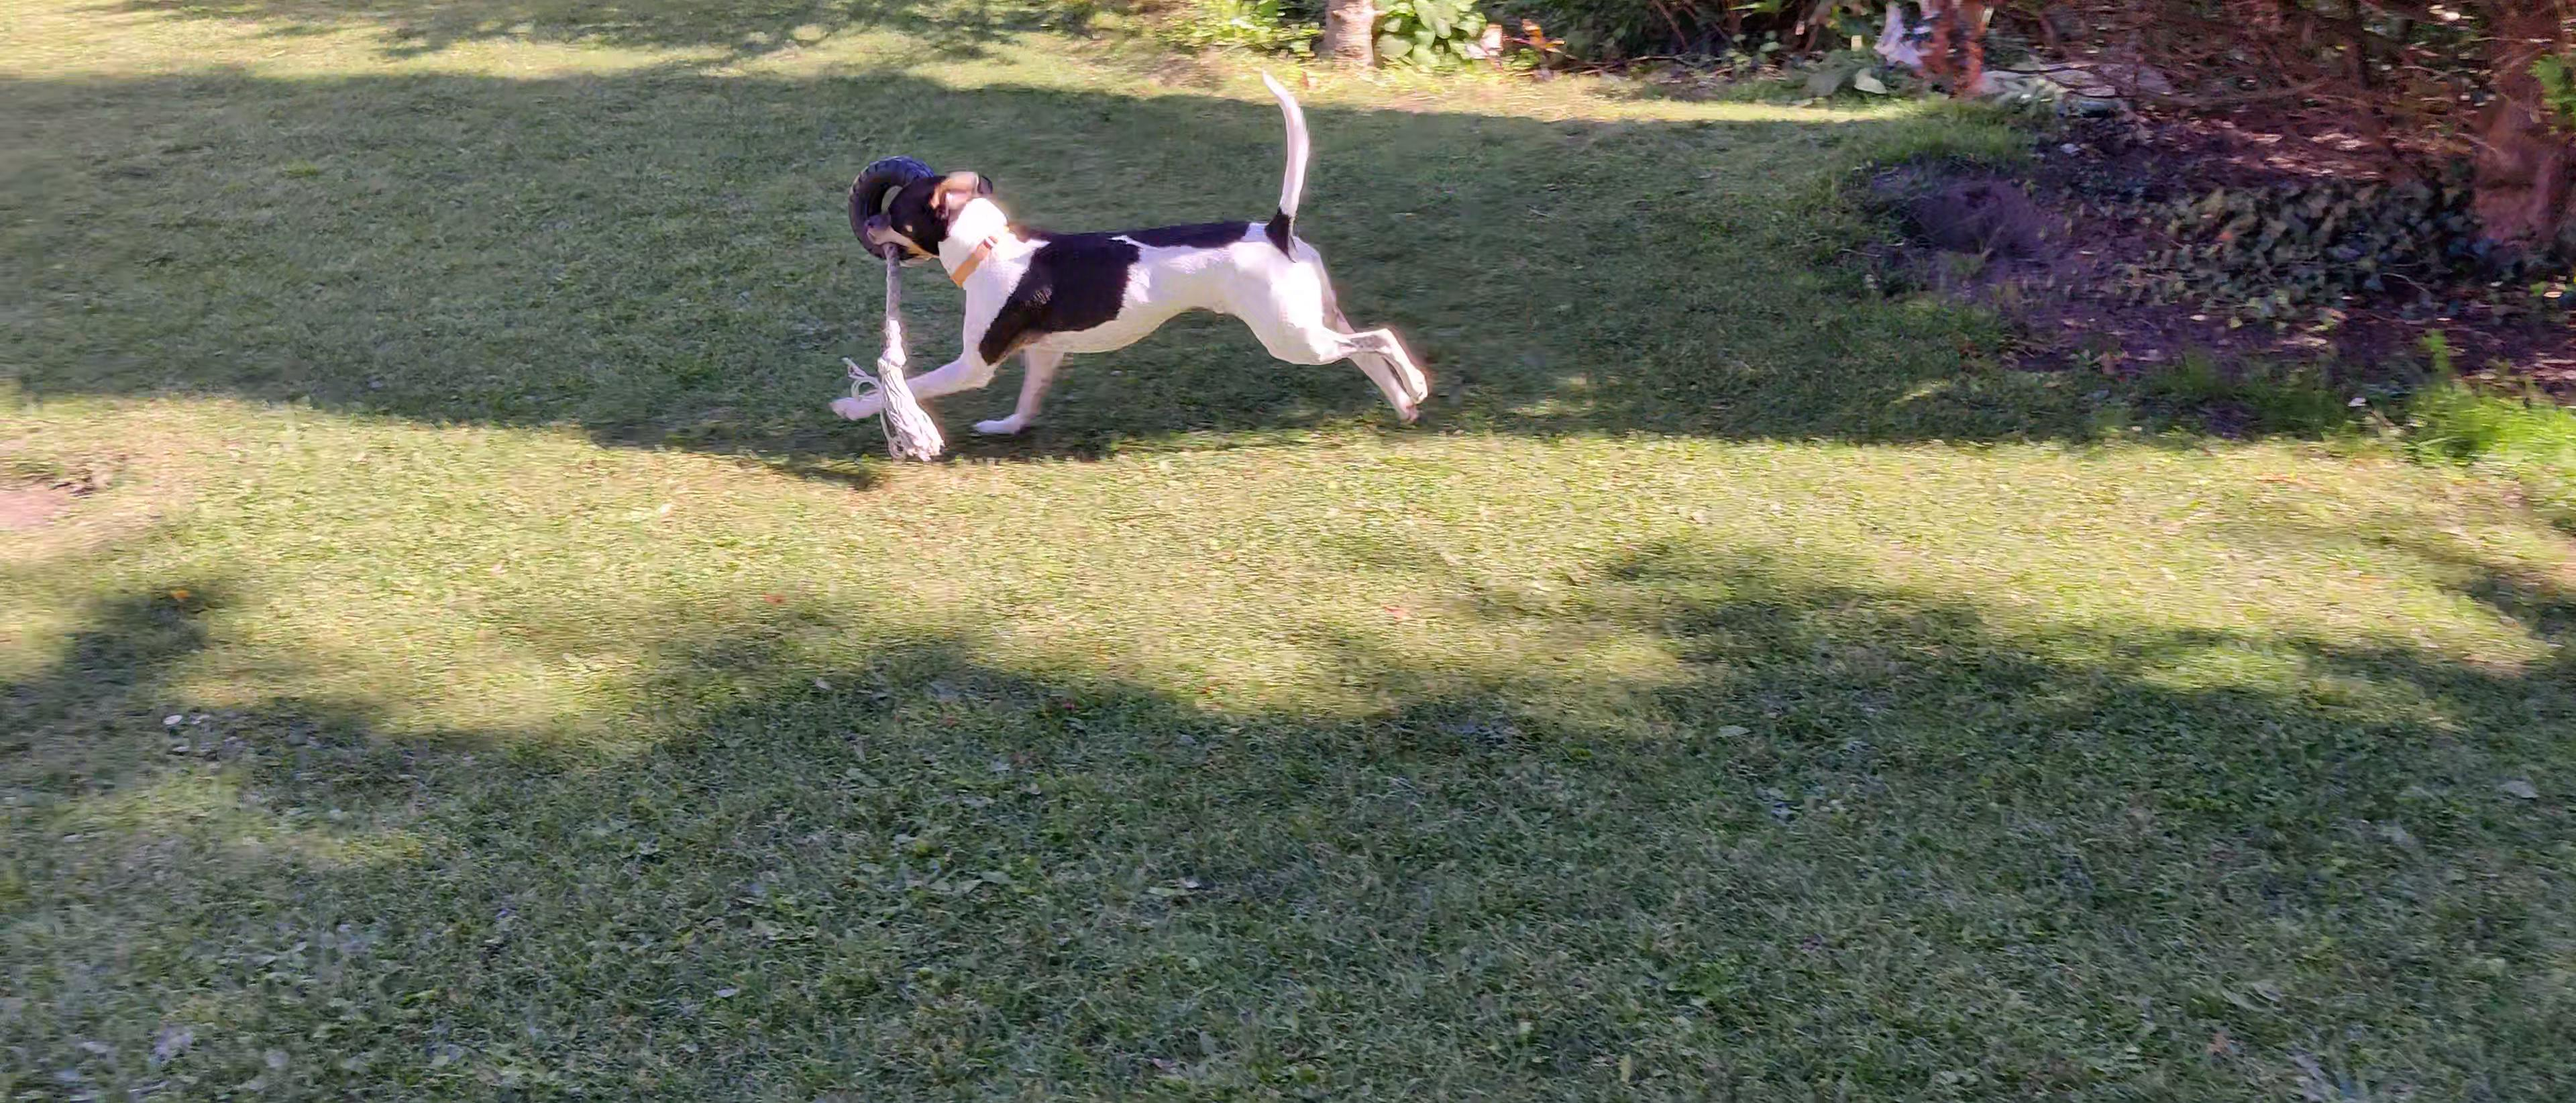Dog: (815, 59, 1454, 442)
